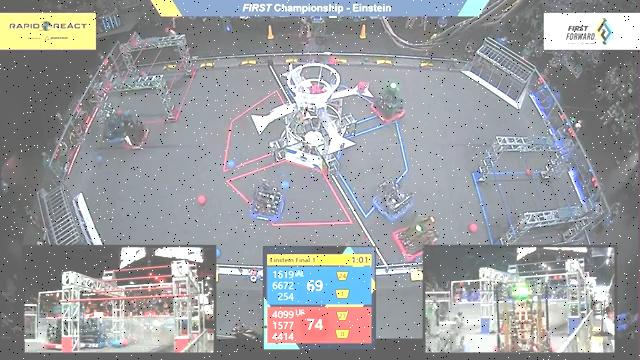Robot: (389, 212, 443, 261), (369, 174, 418, 223), (246, 183, 290, 228), (368, 82, 413, 125), (119, 119, 160, 156), (100, 107, 135, 144)
